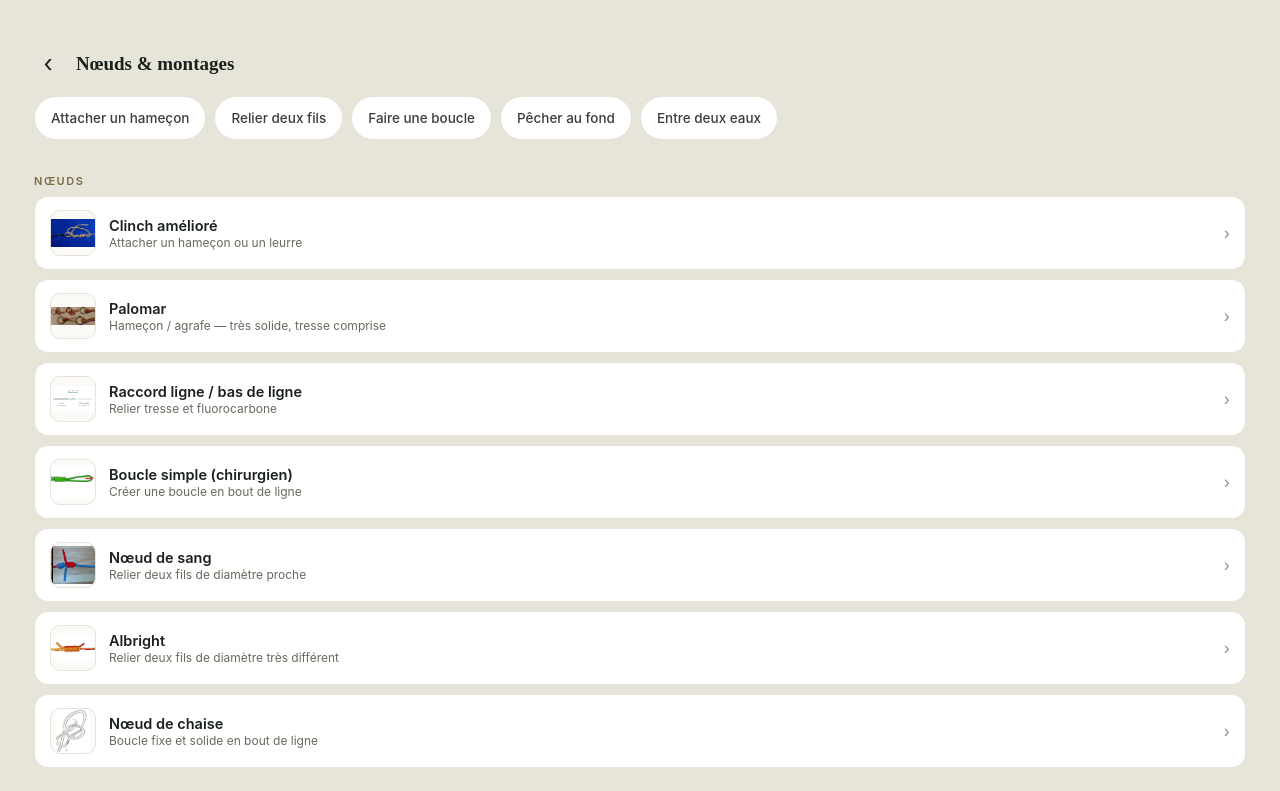
Scenario: liste des nœuds & montages › un second clic sur le même besoin le désactive
Click the button "Relier deux fils": click(279, 118) [214,96,343,140]
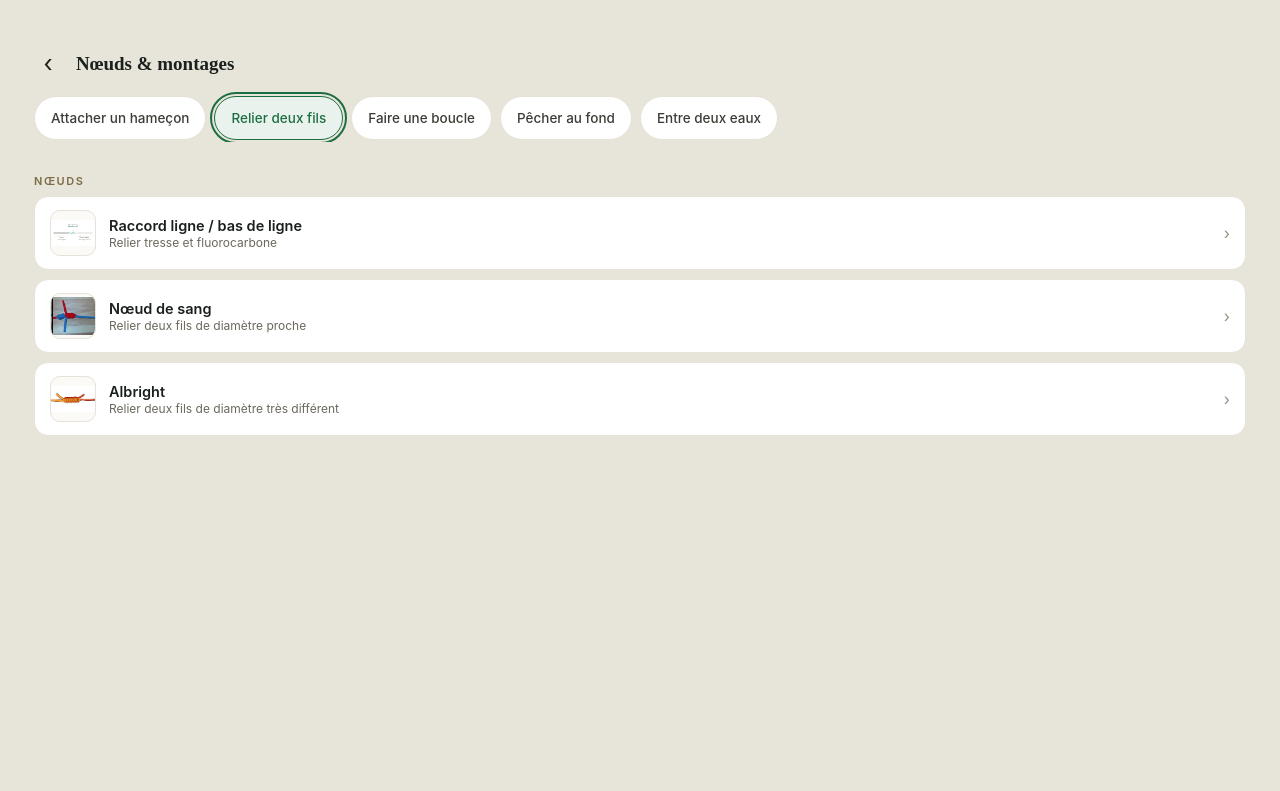
Click the button "Relier deux fils": click(279, 118) [214,96,343,140]
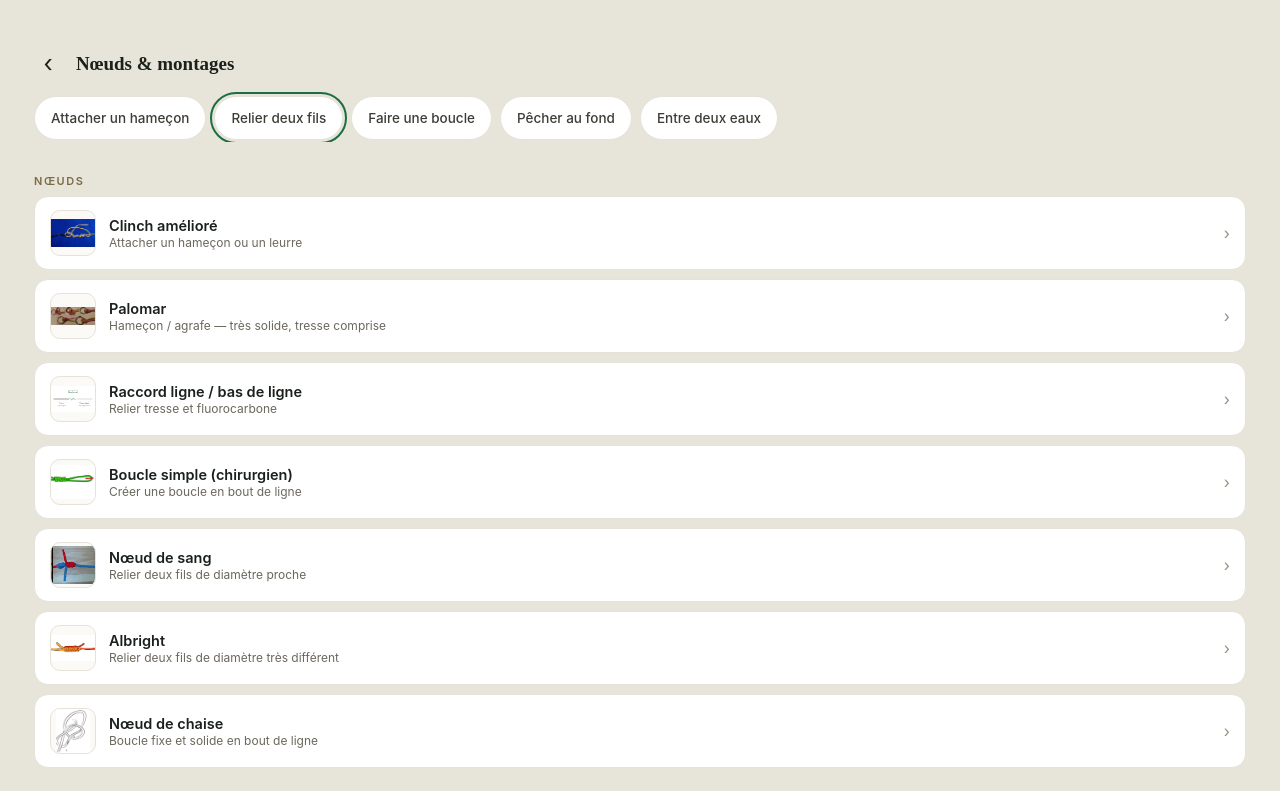
expect the number of buttons with test id "tuile-noeud" is 15: met
